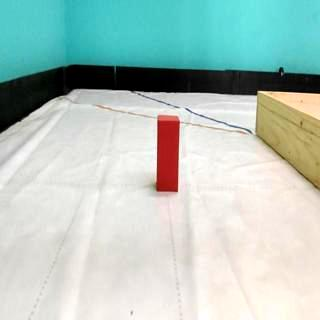redbox: (158, 115, 179, 192)
